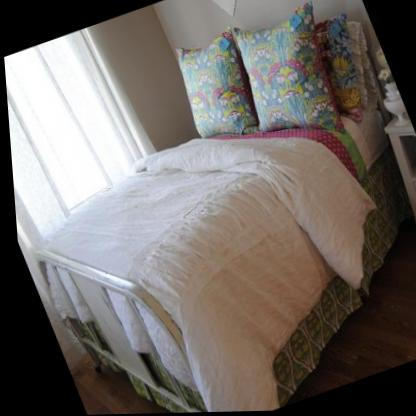Bed: (1, 16, 416, 416)
